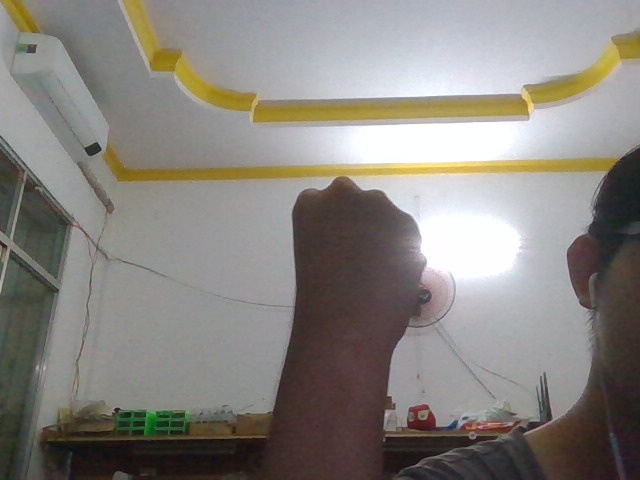fist: (251, 158, 450, 427)
